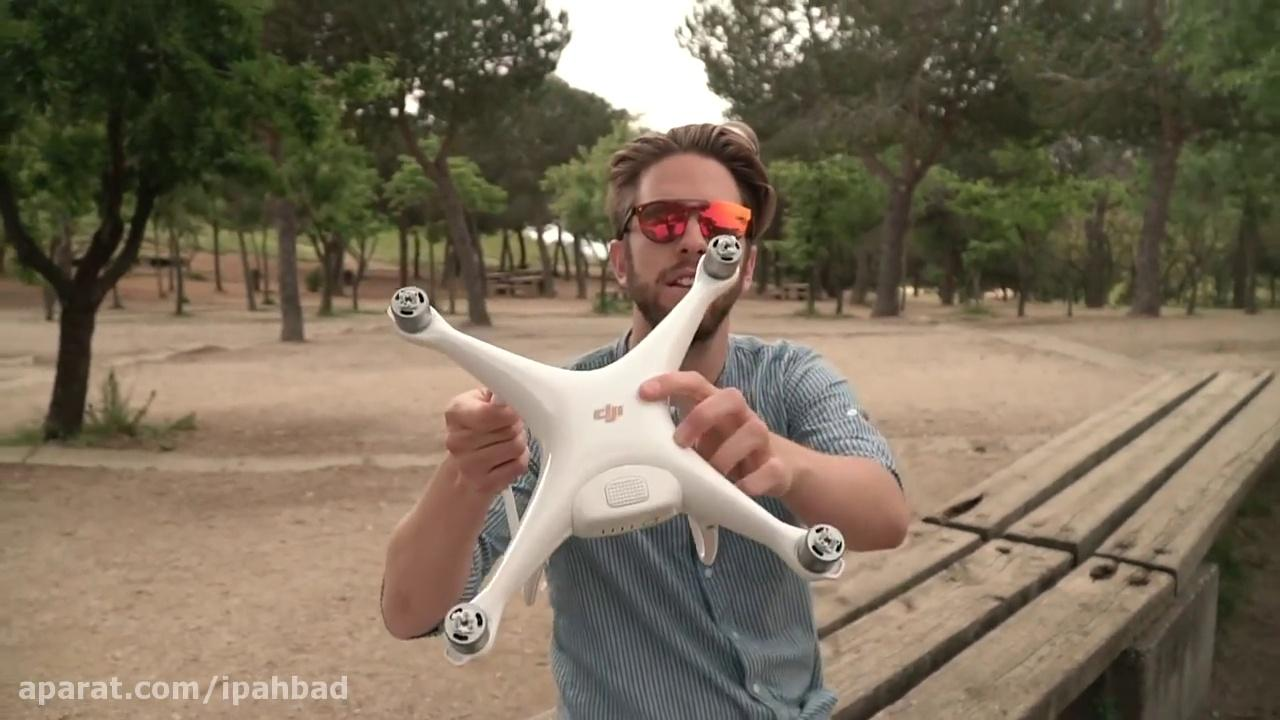drone: (384, 231, 847, 668)
